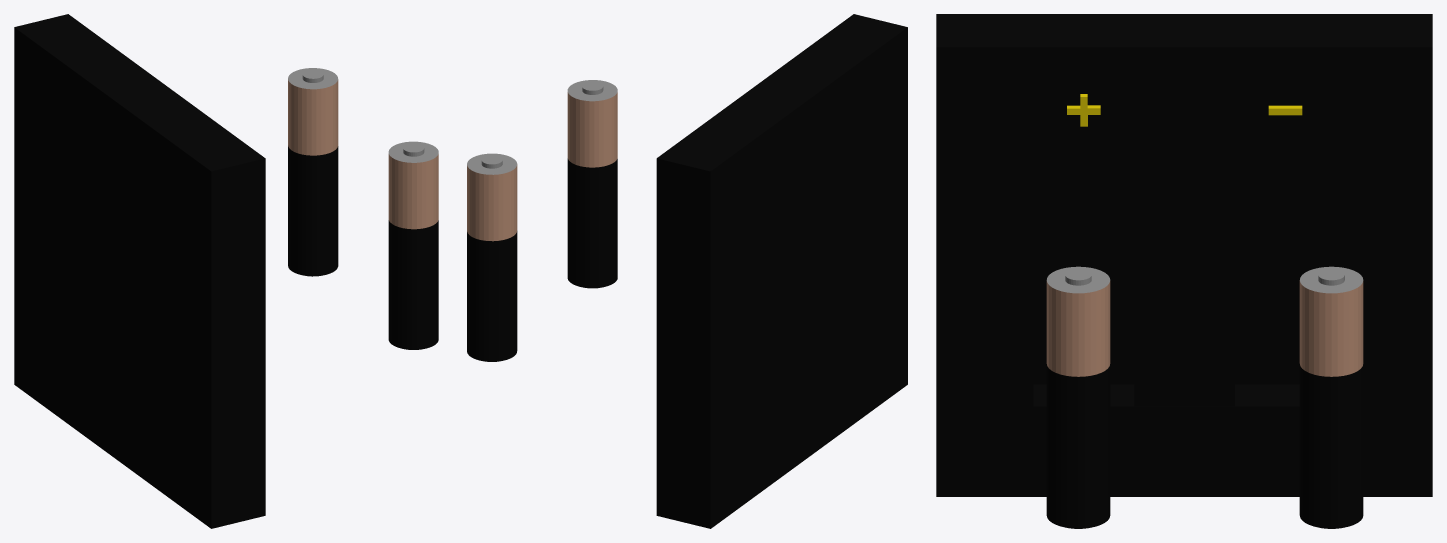
The model's file is Escape_Room_BatteryThing.fbx.
3 renders of one model, left to right at view 1: azimuth 30°, elevation 25°; view 2: azimuth 150°, elevation 25°; view 3: azimuth 270°, elevation 25°, orthographic. The views are drawn at different scales.
Visible parts, largest first — view 1: Cube, Cylinder.001, Cylinder; view 2: Cube, Cylinder, Cylinder.001; view 3: Cube, Cylinder, Cylinder.001.
Boxes of the visible parts, box(x1,y1,x2,y2) form: Cube: box(14, 14, 265, 528); Cylinder.001: box(288, 68, 338, 276); Cylinder: box(388, 141, 438, 349); Cube: box(656, 14, 907, 528); Cylinder: box(567, 80, 617, 288); Cylinder.001: box(467, 153, 517, 361); Cube: box(936, 14, 1432, 496); Cylinder: box(1046, 266, 1110, 528); Cylinder.001: box(1299, 266, 1363, 528).
Size of the model in its own units: 164 by 200 by 200.
